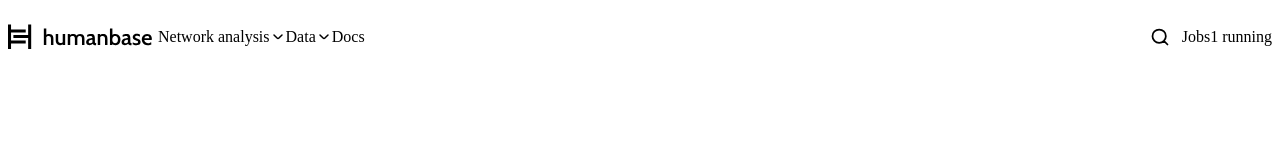
Test: TopBar › opens one section menu at a time on click
Click the button "Network analysis" at (222, 37), box [158,17,286,57]
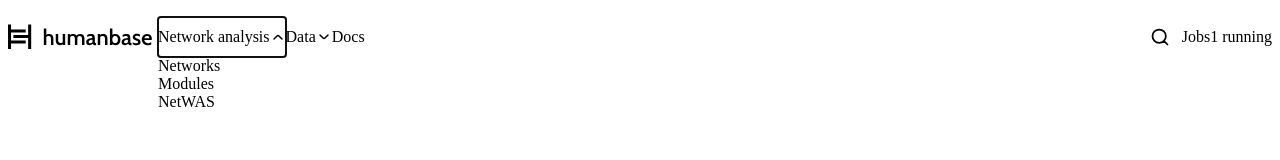
Expected: the button "Network analysis" is expanded, [158,17,286,57]
Click the button "Data" at (309, 37), box [286,17,332,57]
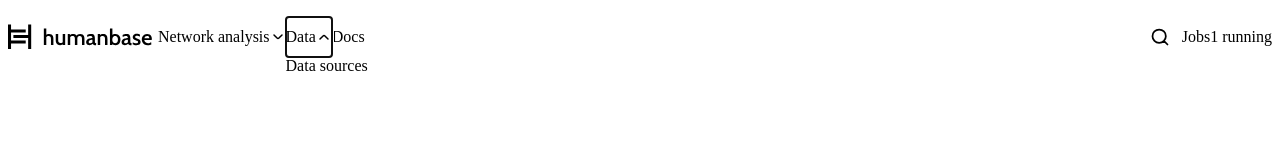
Expected: the button "Network analysis" is collapsed, [158,17,286,57]
Expected: the button "Data" is expanded, [286,17,332,57]
